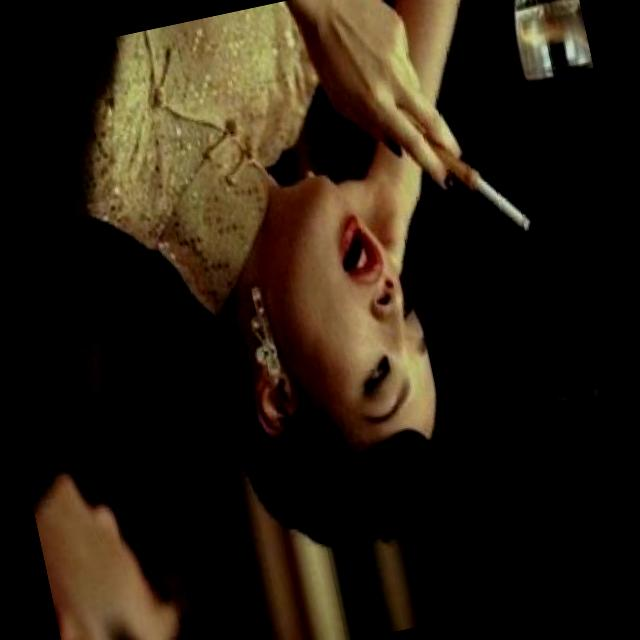smoke: (324, 0, 534, 263)
